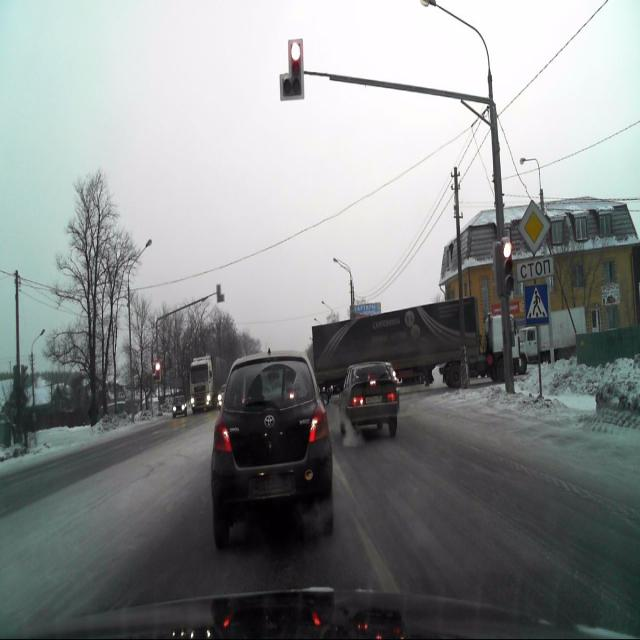object: (536, 331, 543, 398)
road sign: (518, 198, 550, 252), (524, 283, 550, 326), (516, 256, 554, 284)
